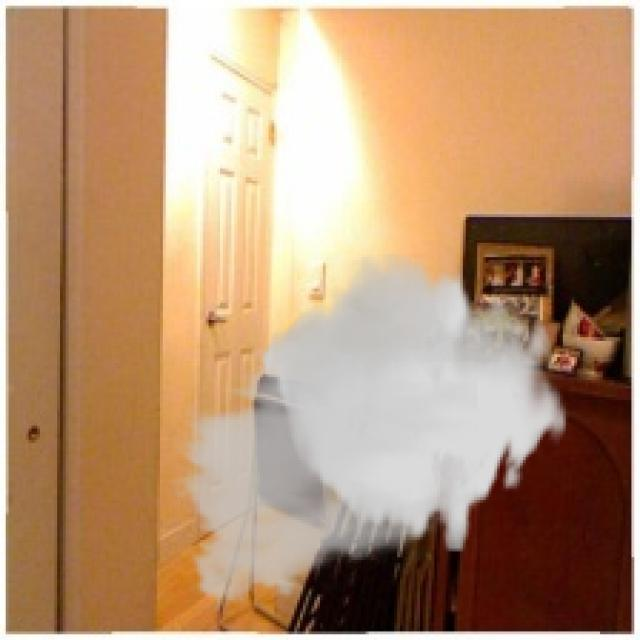Smoke: (168, 255, 568, 620)
